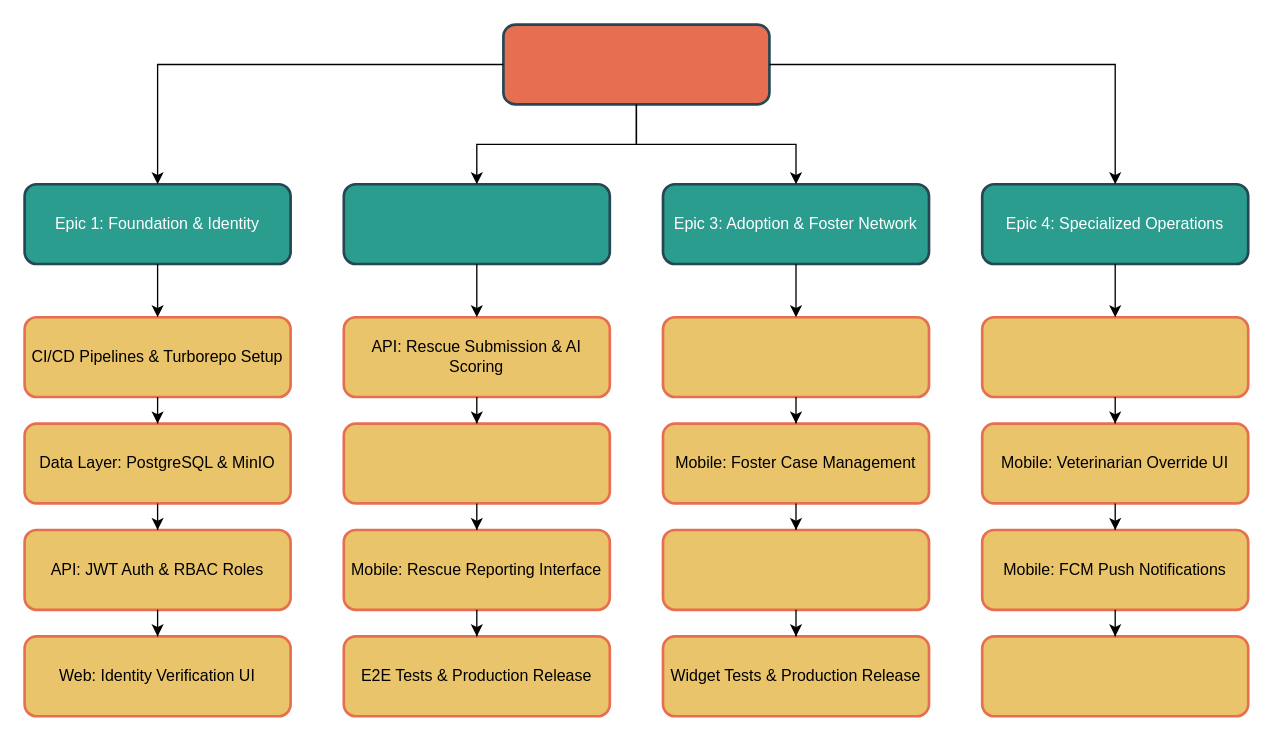
The diagram is 1271 pixels wide and 739 high, and some of its shapes have lost their labels. The centre of each missing label's shape, as x and y in pixels:
API/Mobile: SignalR Messaging: pixel 795 569
API: Adoption Application Workflow: pixel 795 356
Epic 2: Rescue & Triage Engine: pixel 476 223
Happy Paws Platform: pixel 635 64
Load Testing & Final Launch: pixel 1114 675
Mobile: Transporter Task Routing: pixel 1114 356
Web: Open Cases Dashboard: pixel 476 463
